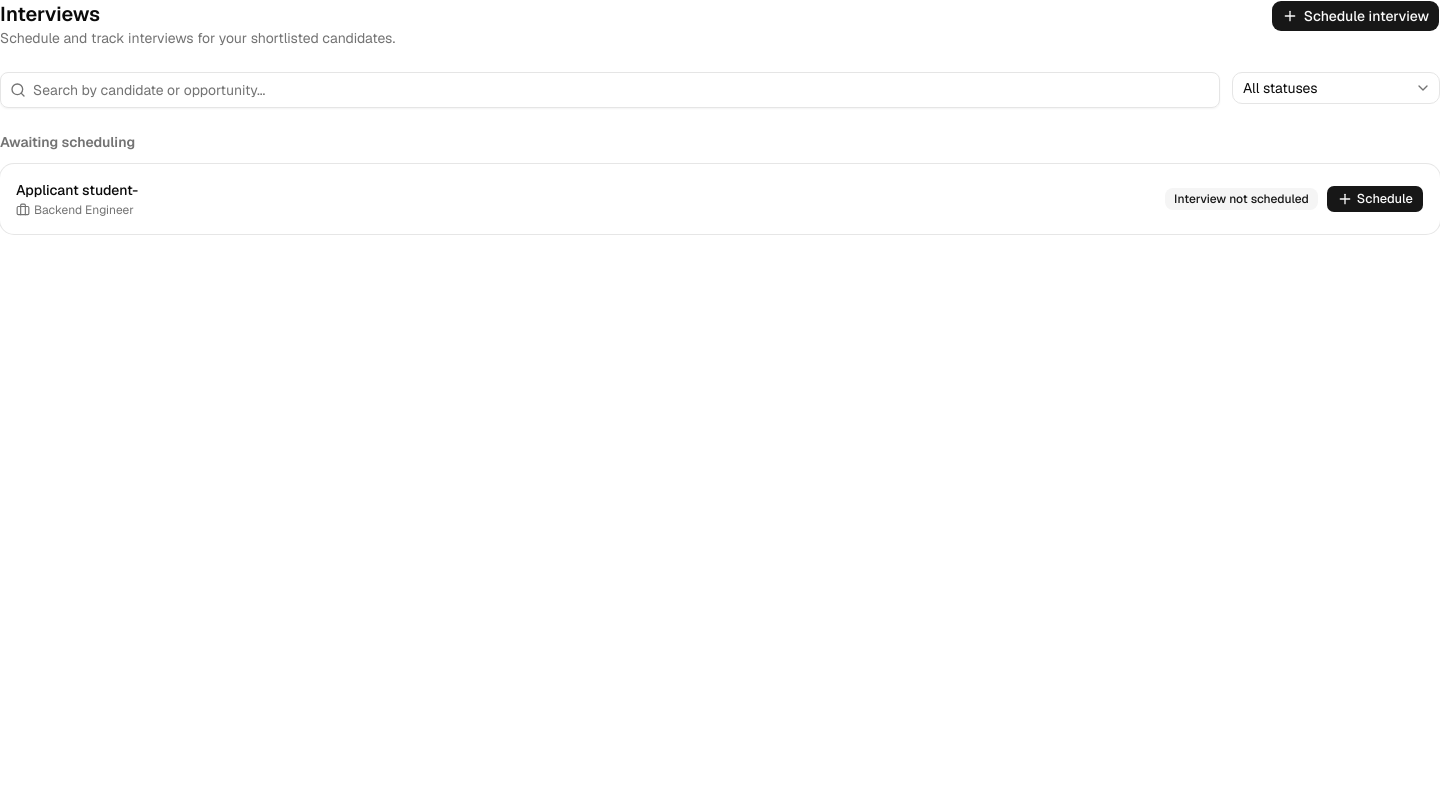
Test: InterviewsListView › opens the schedule dialog preselected when scheduling from an awaiting candidate
Step 1. Click the button "Schedule" → (1375, 199), box [1326,185,1424,213]
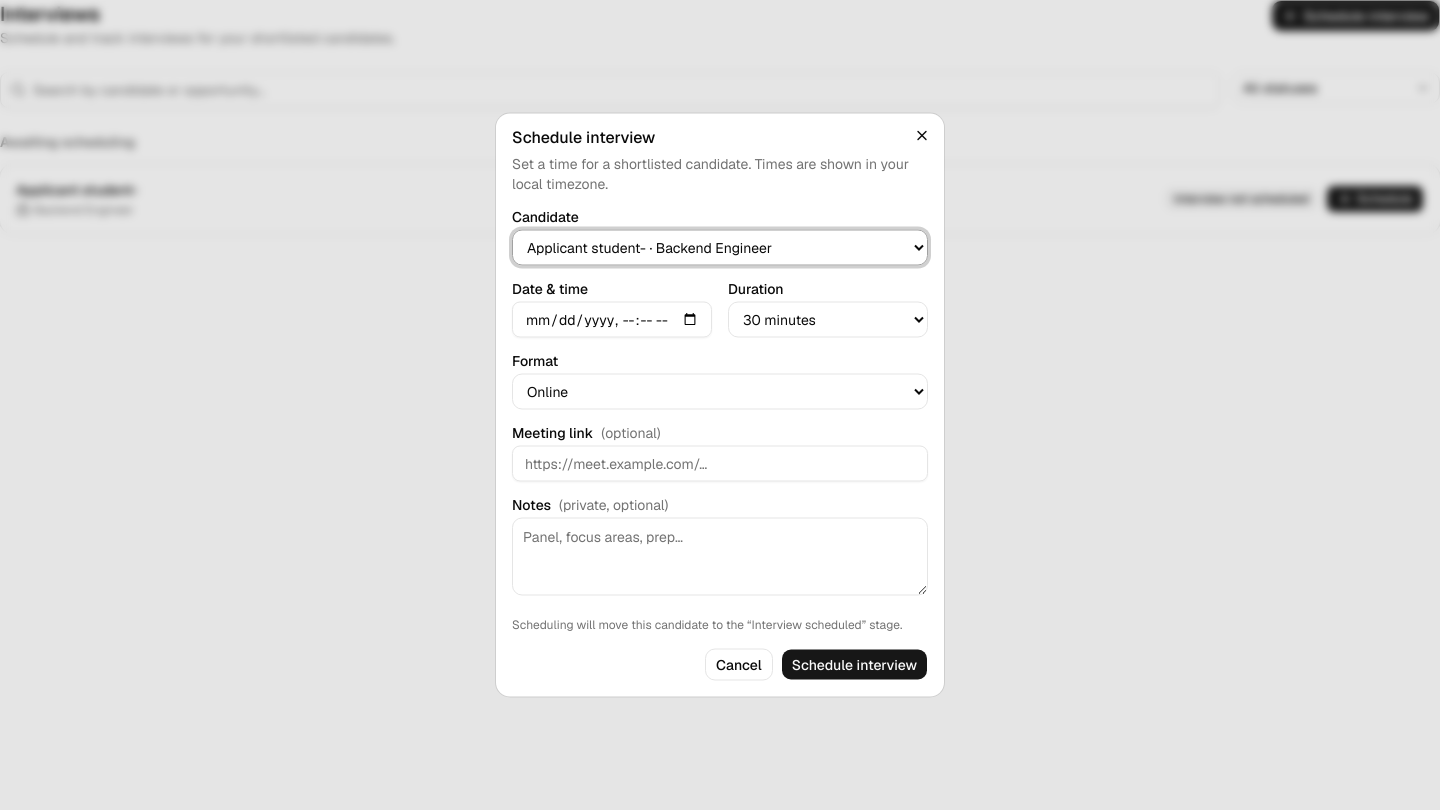
Result: the dropdown labelled "Candidate" shows "Applicant student- · Backend Engineer" at [512,230,928,266]
